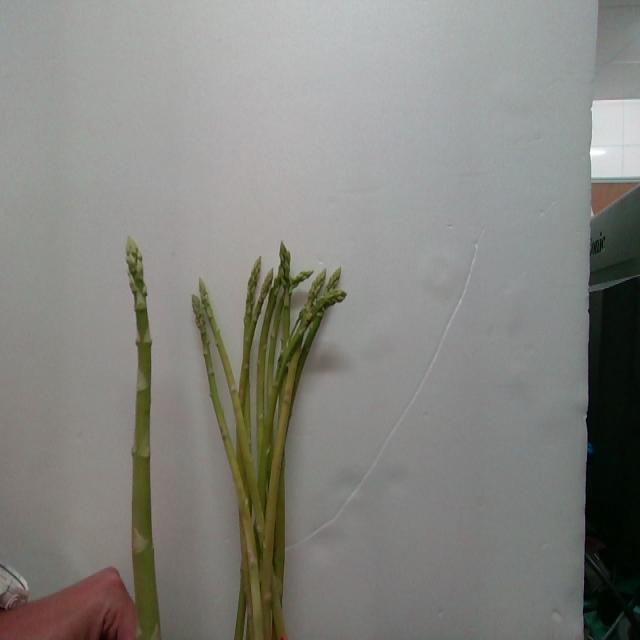aspargus: (126, 237, 169, 640)
